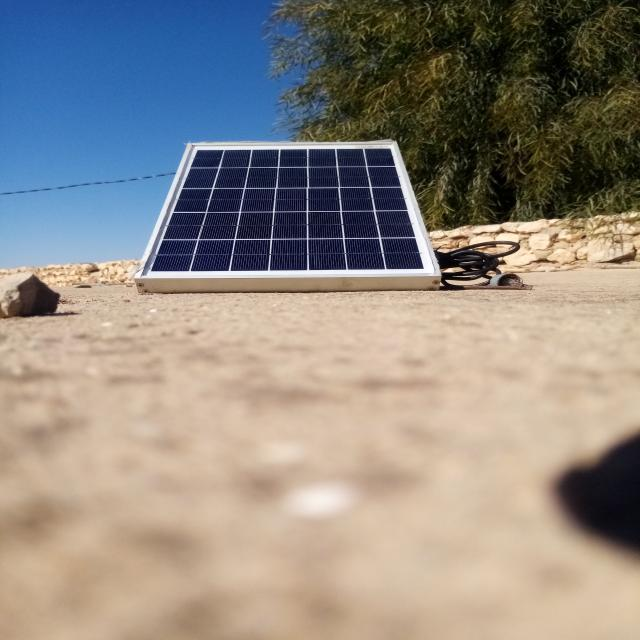no faulty: (135, 142, 435, 277)
